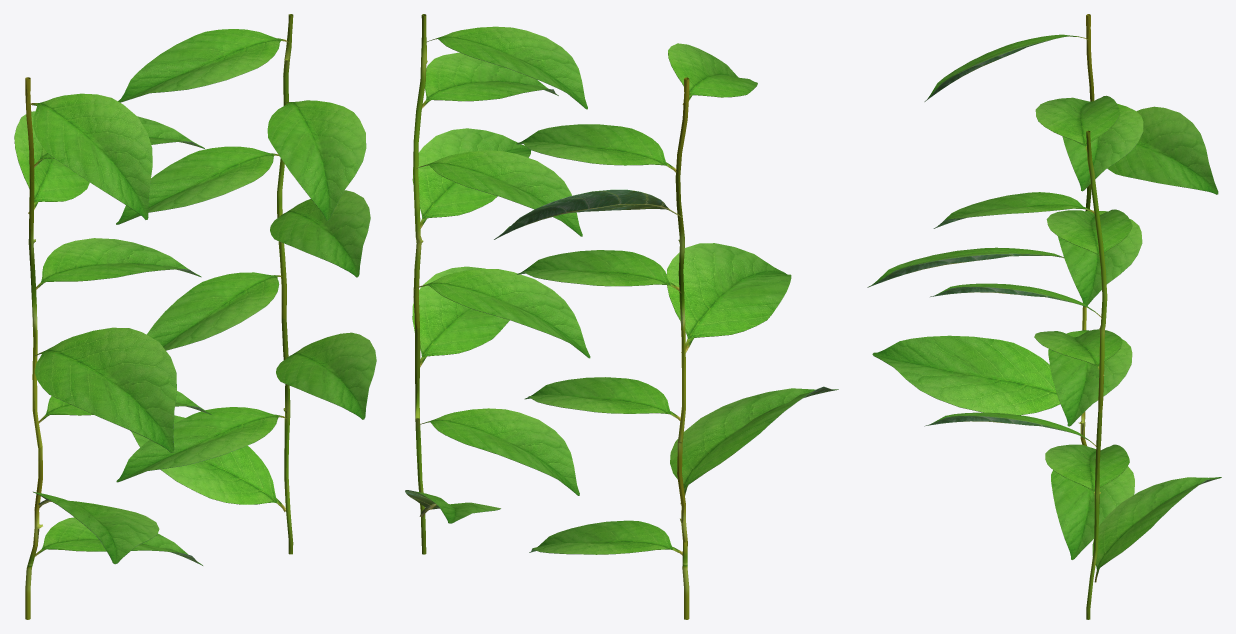
File: leaf.obj
3 renders of one model, left to right at view 1: azimuth 30°, elevation 25°; view 2: azimuth 150°, elevation 25°; view 3: azimuth 270°, elevation 25°, orthographic. The views are drawn at different scales.
Parts seen in each view (by area): view 1: leave_125, leave_129, leave_122, leave_112, leave_119, leave_121, leave_126, leave_117, leave_124, leave_116, leave_127, leave_128 (+6 smaller); view 2: leave_125, leave_119, leave_121, leave_128, leave_117, leave_112, leave_124, leave_115, leave_126, leave_122, leave_116, leave_118 (+6 smaller); view 3: leave_128, leave_123, leave_127, leave_120, leave_118, leave_116, leave_112, leave_115, leave_121, leaf_2, leave_117, leave_122 (+6 smaller).
Boxes of the visible parts, left/top/right/bottom form: leave_125: left=34, top=327, right=176, bottom=452; leave_129: left=29, top=93, right=152, bottom=219; leave_122: left=267, top=100, right=366, bottom=220; leave_112: left=118, top=29, right=288, bottom=102; leave_119: left=146, top=272, right=282, bottom=350; leave_121: left=116, top=407, right=286, bottom=482; leave_126: left=276, top=332, right=376, bottom=419; leave_117: left=116, top=146, right=279, bottom=224; leave_124: left=270, top=190, right=370, bottom=277; leave_116: left=36, top=238, right=201, bottom=289; leave_127: left=130, top=415, right=285, bottom=511; leave_128: left=33, top=491, right=159, bottom=564; leave_125: left=666, top=243, right=791, bottom=352; leave_119: left=413, top=268, right=590, bottom=358; leave_121: left=418, top=408, right=579, bottom=495; leave_128: left=670, top=386, right=838, bottom=503; leave_117: left=416, top=150, right=582, bottom=236; leave_112: left=426, top=26, right=587, bottom=109; leave_124: left=412, top=128, right=531, bottom=228; leave_115: left=516, top=124, right=676, bottom=172; leave_126: left=412, top=266, right=509, bottom=367; leave_122: left=422, top=52, right=558, bottom=108; leave_116: left=516, top=250, right=681, bottom=293; leave_118: left=524, top=377, right=681, bottom=422; leave_128: left=872, top=335, right=1060, bottom=415; leave_123: left=1107, top=106, right=1218, bottom=194; leave_127: left=1092, top=477, right=1221, bottom=582; leave_120: left=1051, top=466, right=1134, bottom=559; leave_118: left=1048, top=330, right=1132, bottom=426; leave_116: left=1058, top=210, right=1142, bottom=307; leave_112: left=1035, top=95, right=1120, bottom=152; leave_115: left=1062, top=101, right=1143, bottom=191; leave_121: left=1045, top=444, right=1129, bottom=494; leaf_2: left=1086, top=130, right=1107, bottom=619; leave_117: left=1046, top=209, right=1132, bottom=256; leave_122: left=933, top=192, right=1094, bottom=228.
Size of the model in its own units: 90.45 by 141 by 92.47.
